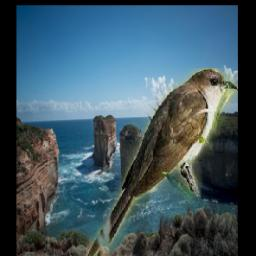Cuckoo: (86, 69, 238, 256)
